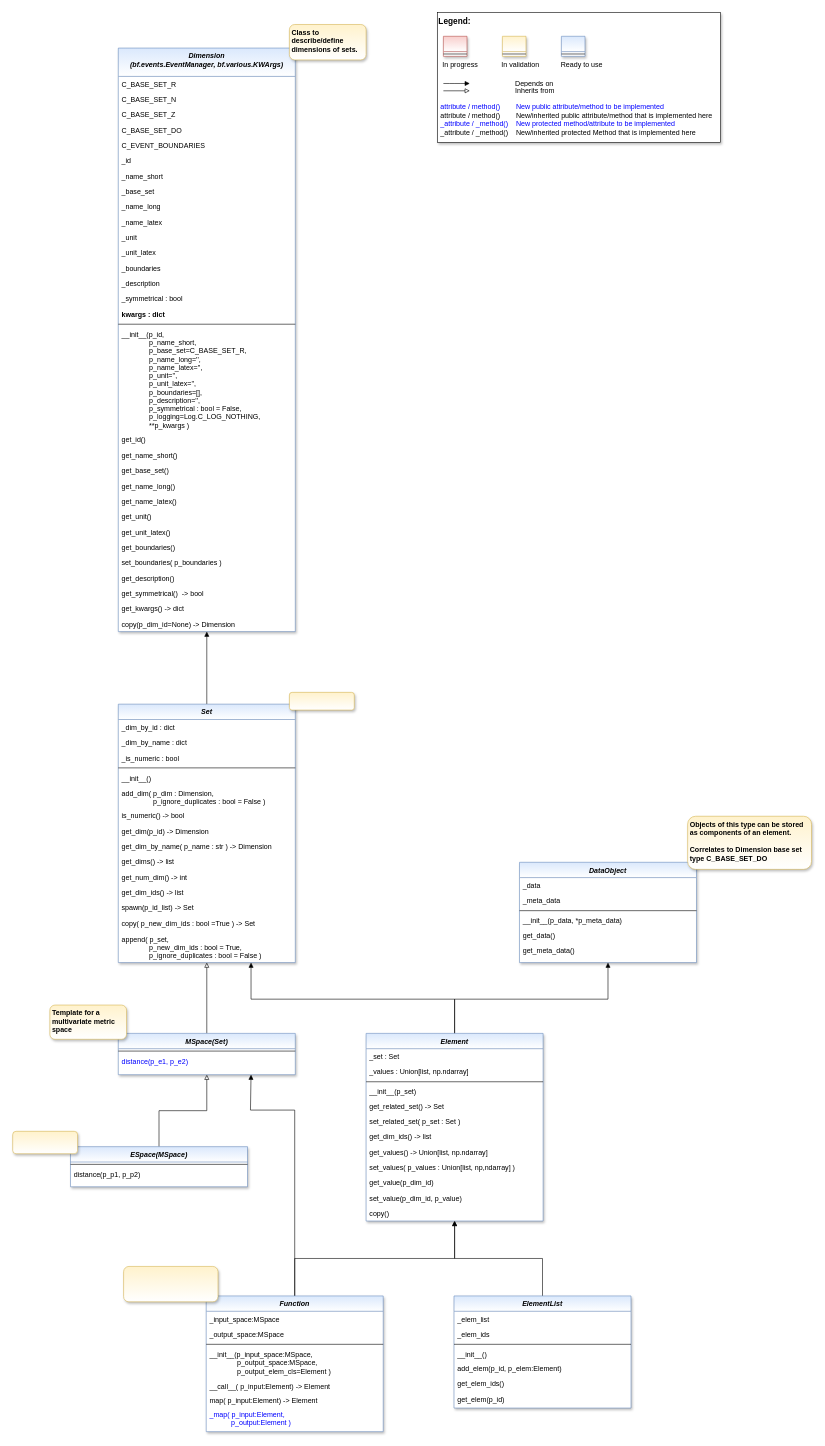
The diagram is 825 pixels wide and 1446 high, and some of its shapes have lost their labels. The shapes that lost their labels are listed below. From the top down, each one's centre as x and y in pixels, then its label:
[322,701]: Multivariate Set
[45,1143]: Multivariate Euclidian space
[171,1284]: Template for Bi-Multivariate mathematical functions.
